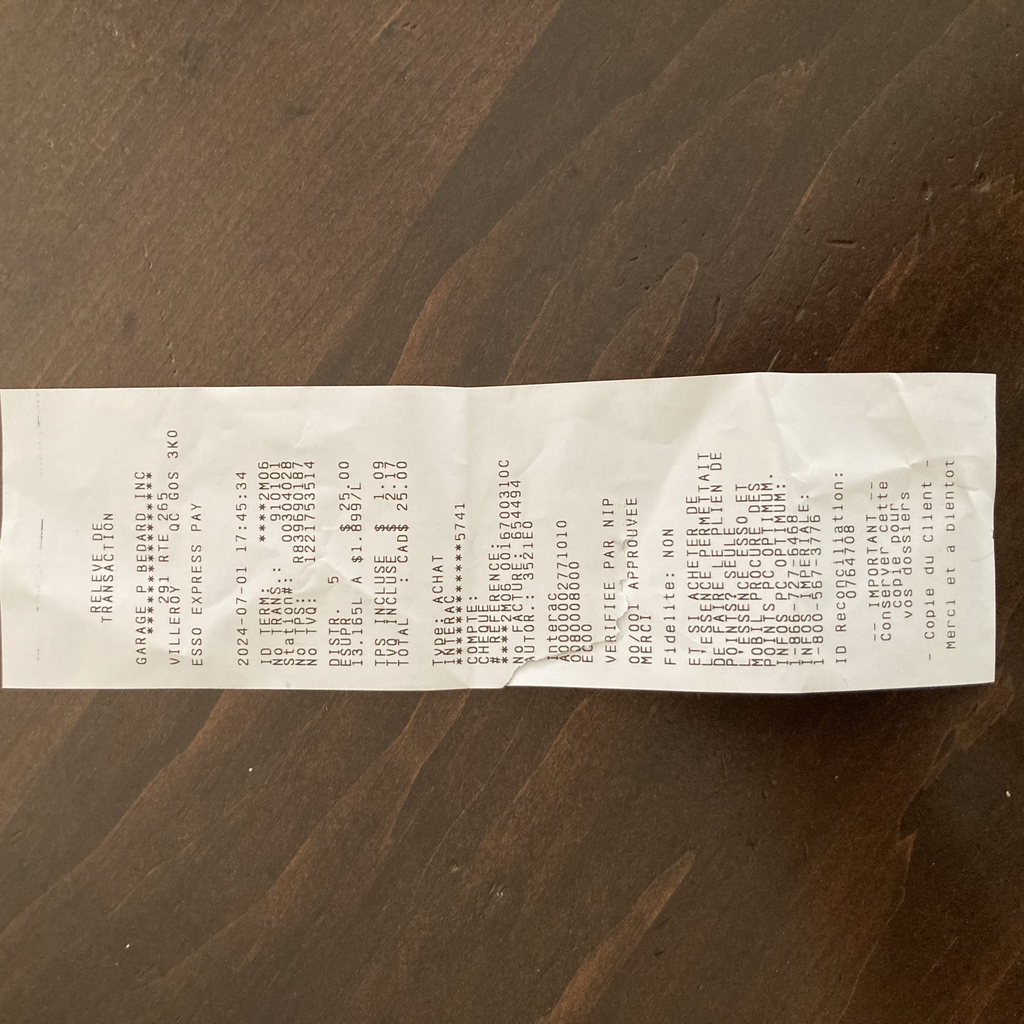recipt: (0, 371, 998, 697)
